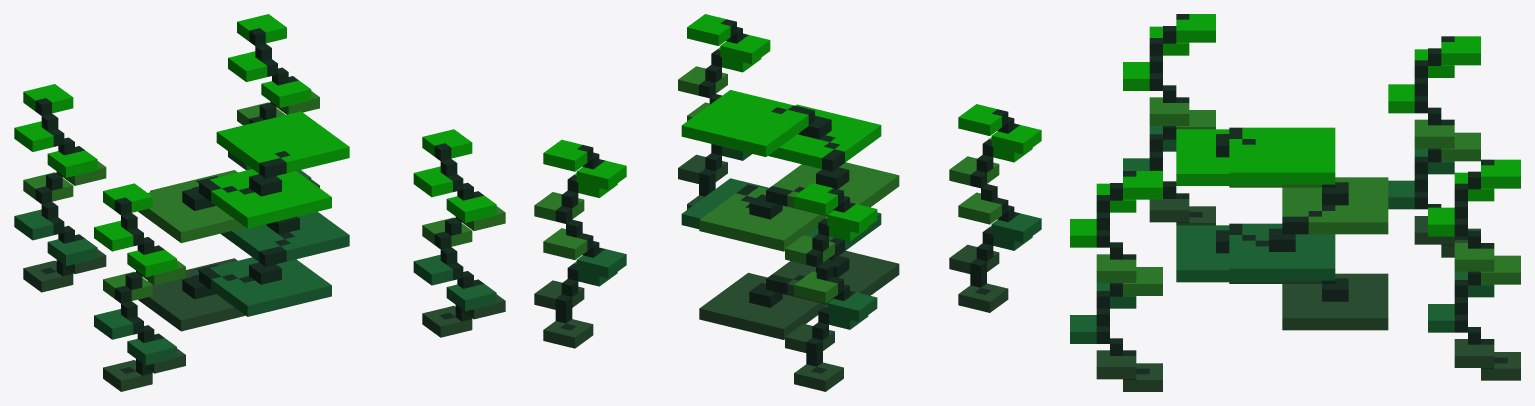
The model's file is LongJumpBlockDesactivated.obj.
The picture shows the model from 3 angles, left to right: view 1: azimuth 30°, elevation 25°; view 2: azimuth 150°, elevation 25°; view 3: azimuth 270°, elevation 25°; orthographic projection. The views are drawn at different scales.
Bounding box in the file's own units: 3.5 × 1.7 × 3.4.
1 material, 1 textured.
